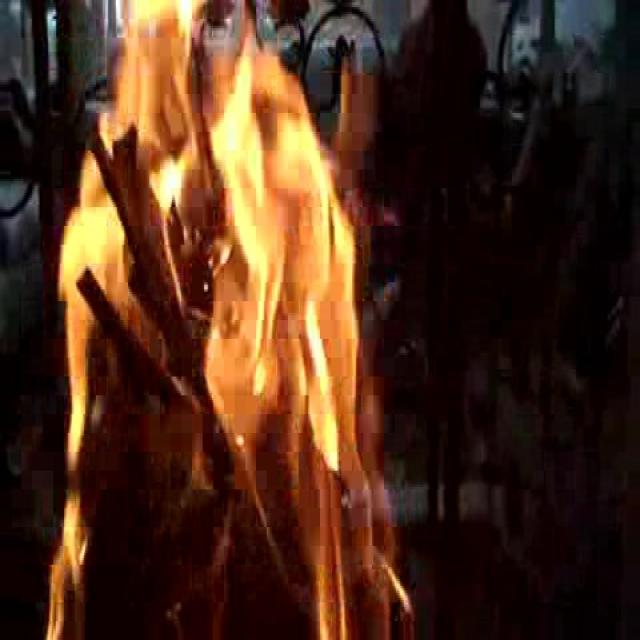Fire: (38, 3, 386, 640)
